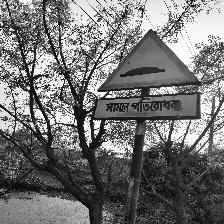Speed-breaker: (95, 29, 204, 122)
